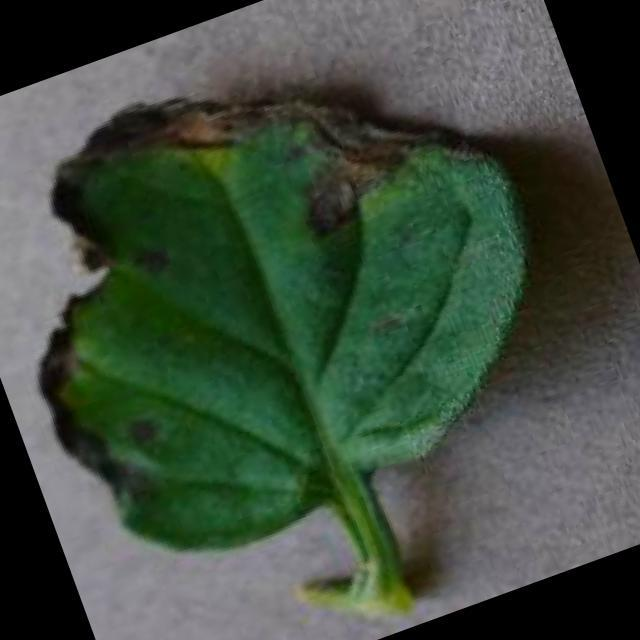Tomato Early blight leaf: (0, 0, 597, 598)
